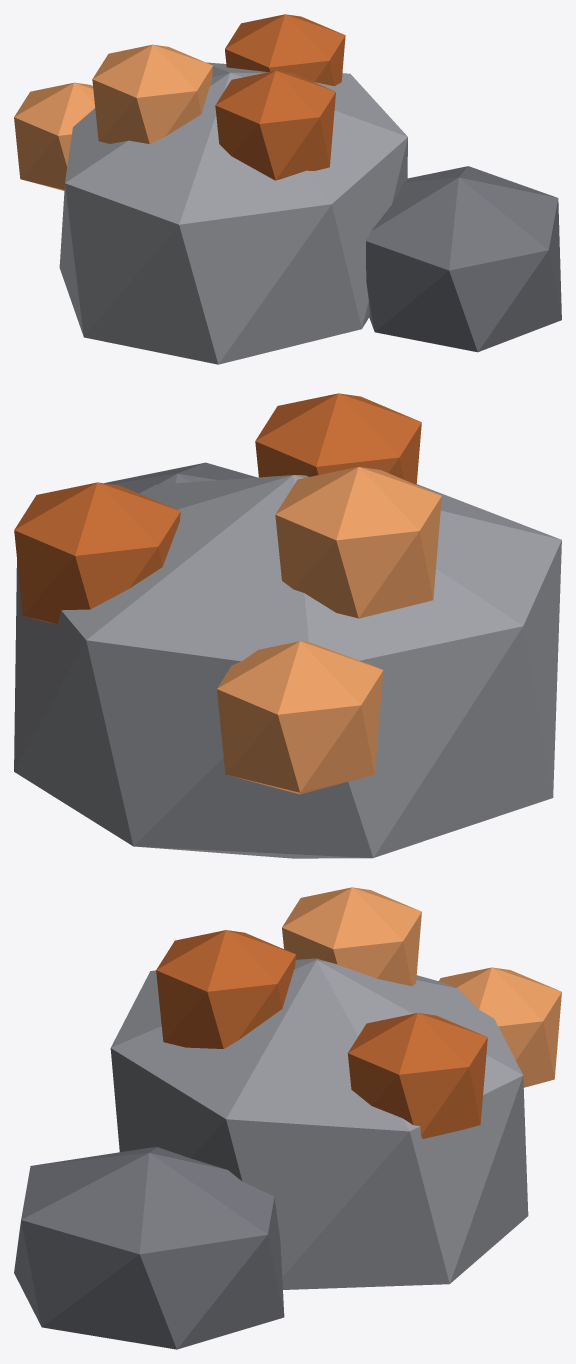
The model's file is drop_ore_copper.glb.
3 renders of one model, top to bottom at view 1: azimuth 30°, elevation 25°; view 2: azimuth 150°, elevation 25°; view 3: azimuth 270°, elevation 25°, orthographic. The views are drawn at different scales.
Parts seen in each view (by area): view 1: drop_ore_copper; view 2: drop_ore_copper; view 3: drop_ore_copper.
Part boxes in pixels (box(x1,y1,x2,y2)): drop_ore_copper: box(14, 14, 561, 364); drop_ore_copper: box(14, 393, 561, 858); drop_ore_copper: box(14, 887, 561, 1349).
Bounding box in the file's own units: 0.2685 × 0.1897 × 0.2618.
